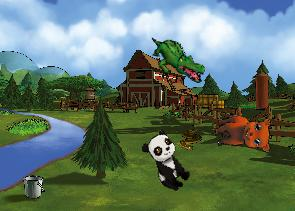bear: (211, 110, 275, 160)
crocodile: (144, 35, 210, 84)
panda: (138, 128, 196, 195)
